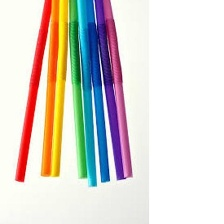drinking_straw: (9, 0, 54, 185), (100, 0, 136, 182), (66, 0, 90, 182)
